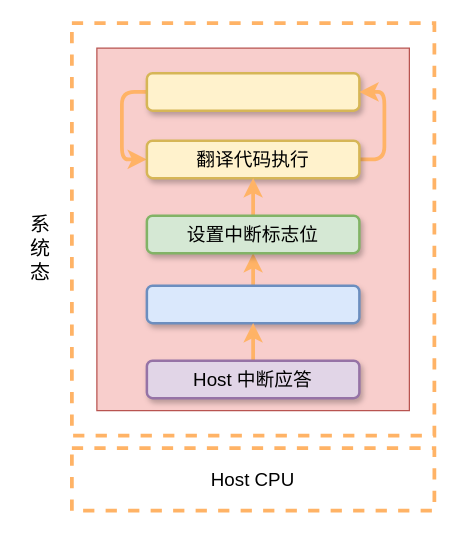
This 458x534 diagram has some shape labels left out. Here are the shapes that lost their labels. From the top down, the centre of each, then its label:
At (x=254, y=93): "Guest 代码翻译".
At (x=254, y=305): "Guest 中断芯片模拟".
